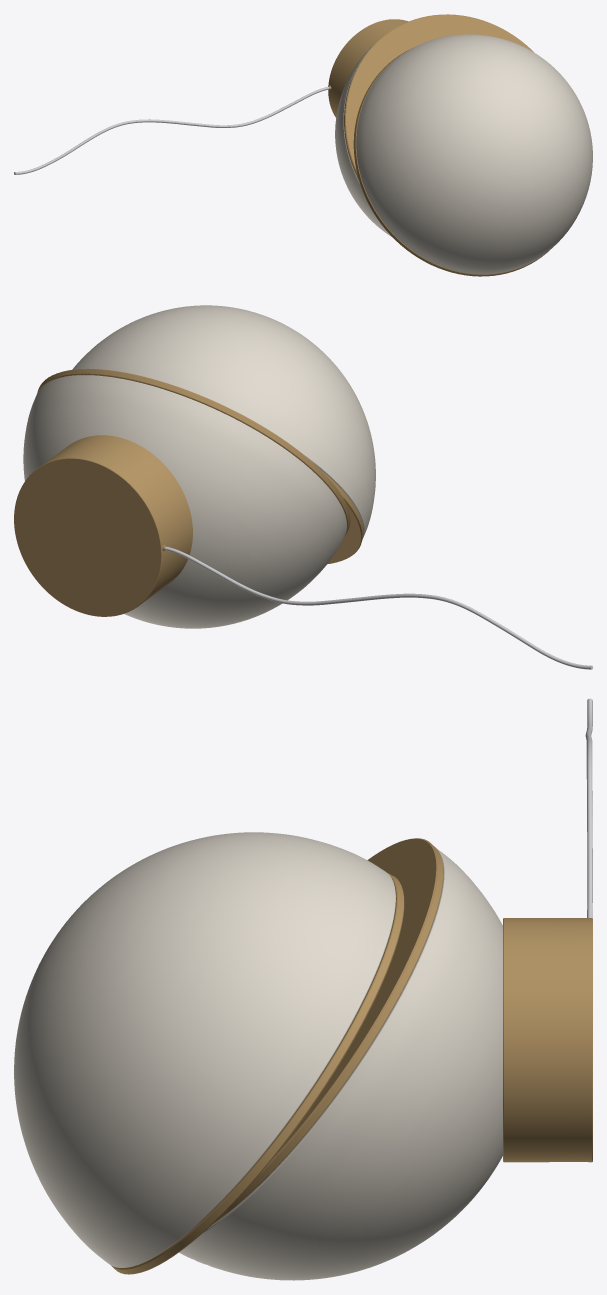
The model's file is lamp.obj.
3 views of the same model, one above another, from view 1: azimuth 30°, elevation 25°; view 2: azimuth 150°, elevation 25°; view 3: azimuth 270°, elevation 25° (orthographic). The views are drawn at different scales.
Parts seen in each view (by area): view 1: Lee_Broom_Crescent_Table_Lamp_mat2; view 2: Lee_Broom_Crescent_Table_Lamp_mat2; view 3: Lee_Broom_Crescent_Table_Lamp_mat2.
Boxes of the visible parts, x1=… form: Lee_Broom_Crescent_Table_Lamp_mat2: x1=14, y1=14, x2=592, y2=276; Lee_Broom_Crescent_Table_Lamp_mat2: x1=14, y1=305, x2=592, y2=669; Lee_Broom_Crescent_Table_Lamp_mat2: x1=14, y1=698, x2=592, y2=1280.
Bounding box in the file's own units: 83.5 × 34.47 × 44.98.
